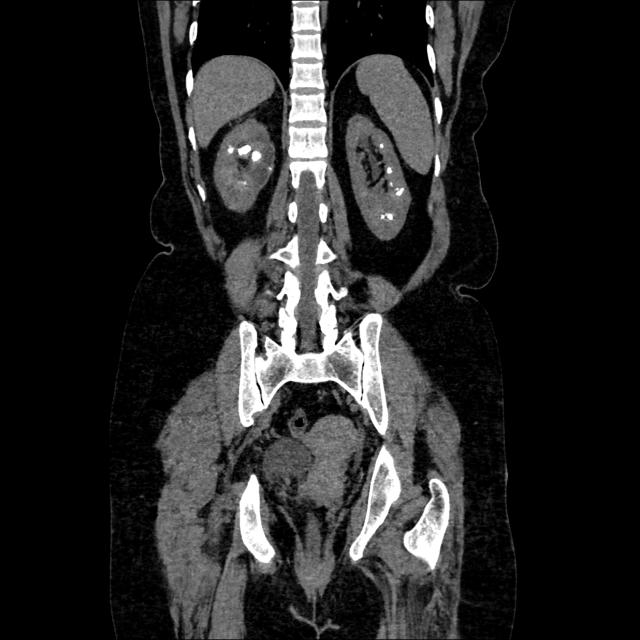kidney: (341, 115, 419, 249), (220, 117, 277, 218)
stone: (236, 148, 266, 164), (396, 182, 406, 205), (381, 210, 393, 225), (226, 141, 232, 158)
